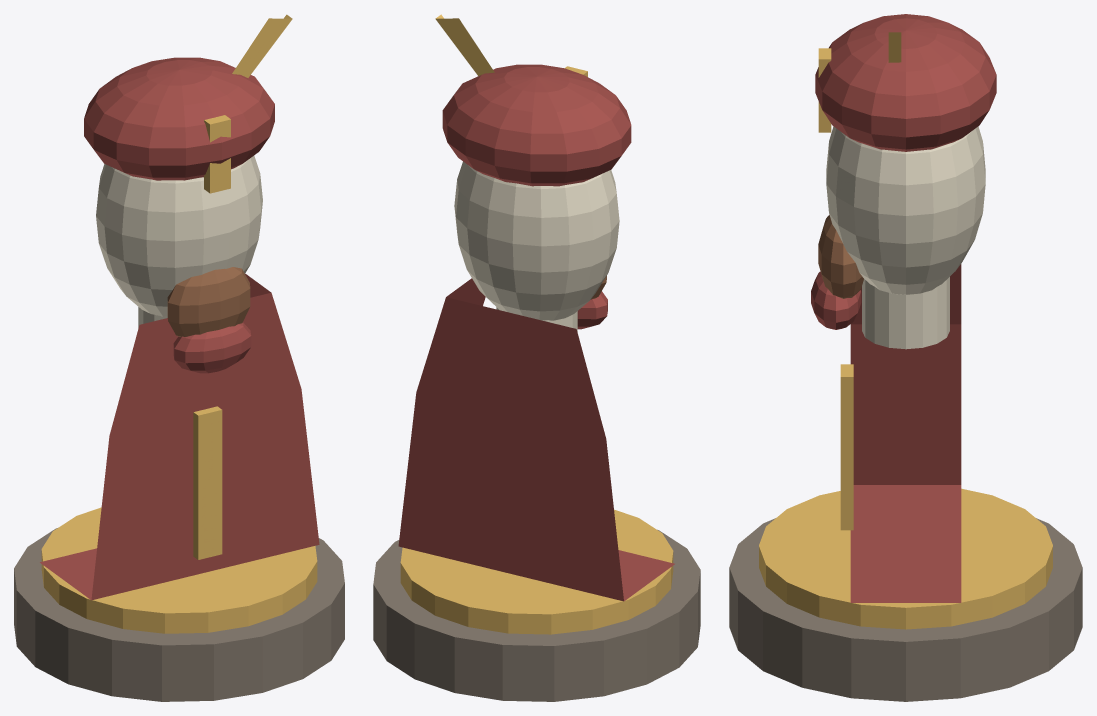
The model's file is shivaji-maharaj.glb.
The picture shows the model from 3 angles, left to right: view 1: azimuth 30°, elevation 25°; view 2: azimuth 150°, elevation 25°; view 3: azimuth 270°, elevation 25°; orthographic projection. The views are drawn at different scales.
Visible parts, largest first — view 1: Shivaji Maharaj; view 2: Shivaji Maharaj; view 3: Shivaji Maharaj.
Part boxes in pixels (left/top/right/bottom): Shivaji Maharaj: left=14, top=14, right=344, bottom=701; Shivaji Maharaj: left=373, top=14, right=700, bottom=701; Shivaji Maharaj: left=729, top=14, right=1082, bottom=701.
Bounding box in the file's own units: 0.96 × 1.91 × 0.96.
